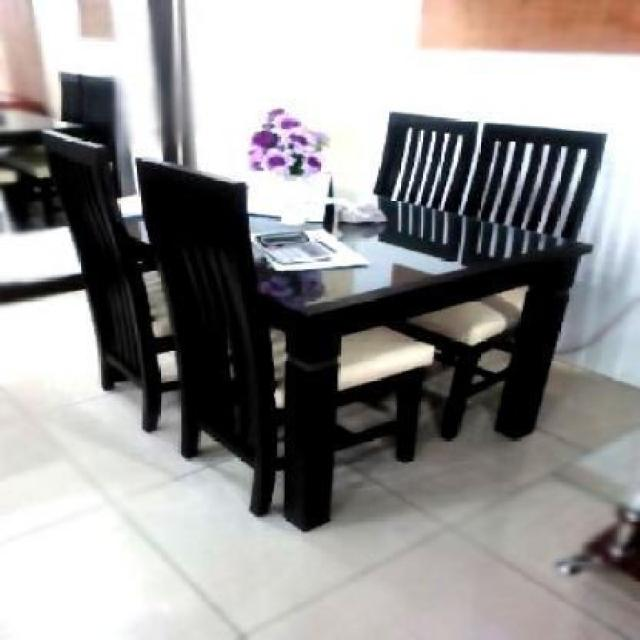tables: (112, 172, 594, 532)
